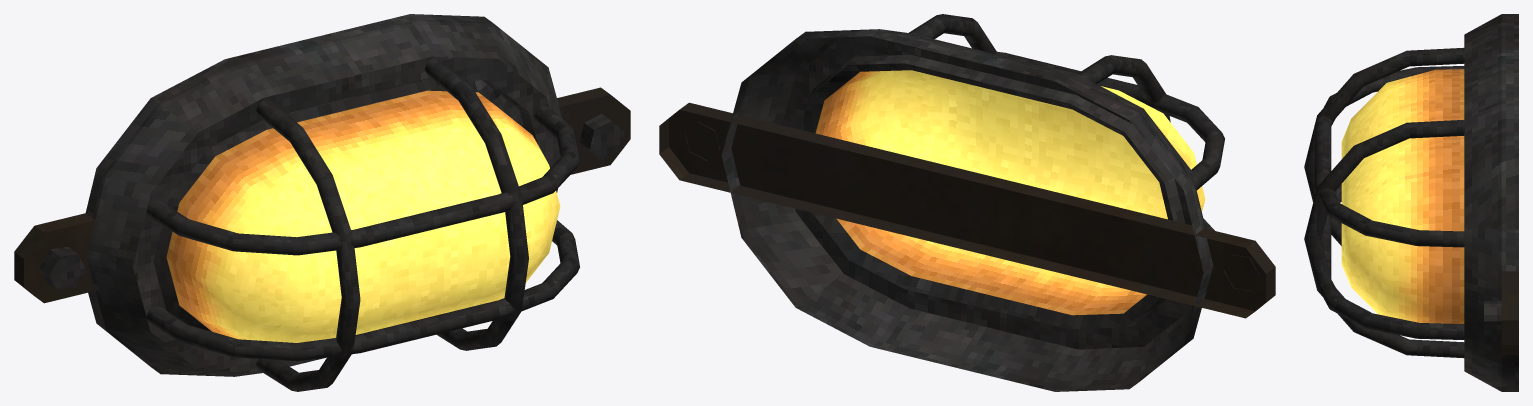
The model's file is lamp_2_on.glb.
3 views of the same model, side by side, from view 1: azimuth 30°, elevation 25°; view 2: azimuth 150°, elevation 25°; view 3: azimuth 270°, elevation 25° (orthographic). The views are drawn at different scales.
Parts seen in each view (by area): view 1: lamp_2_on; view 2: lamp_2_on; view 3: lamp_2_on.
Boxes of the visible parts, x1,y1,x2,y2 form: lamp_2_on: [14, 14, 630, 391]; lamp_2_on: [659, 14, 1275, 391]; lamp_2_on: [1304, 14, 1518, 391].
Bounding box in the file's own units: 0.36 × 0.176 × 0.126.
Materials: 4 (4 with a texture image).
